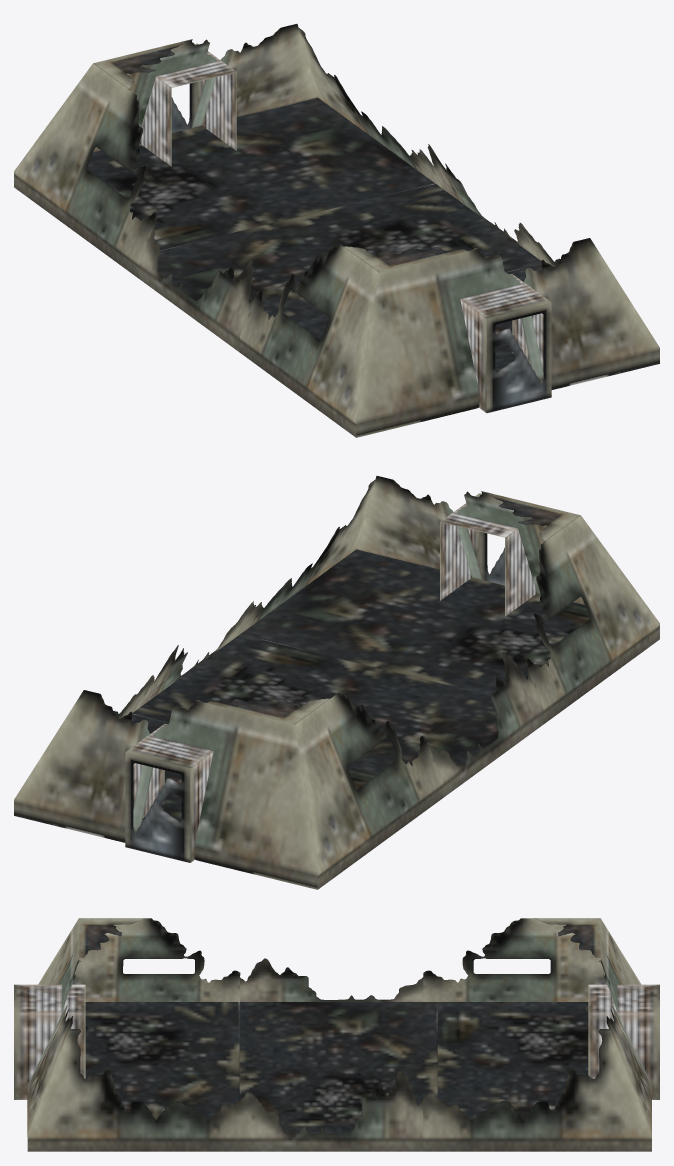
Rendered from barracks_dam.glb.
The picture shows the model from 3 angles, top to bottom: view 1: azimuth 30°, elevation 25°; view 2: azimuth 150°, elevation 25°; view 3: azimuth 270°, elevation 25°; orthographic projection. The views are drawn at different scales.
Visible parts, largest first — view 1: Barracks; view 2: Barracks; view 3: Barracks.
Boxes of the visible parts, x1,y1,x2,y2 form: Barracks: (14, 24, 659, 437); Barracks: (14, 476, 659, 889); Barracks: (14, 918, 659, 1151).
Bounding box in the file's own units: 8.42 × 3.5 × 17.01.
Materials: 1 (1 with a texture image).
